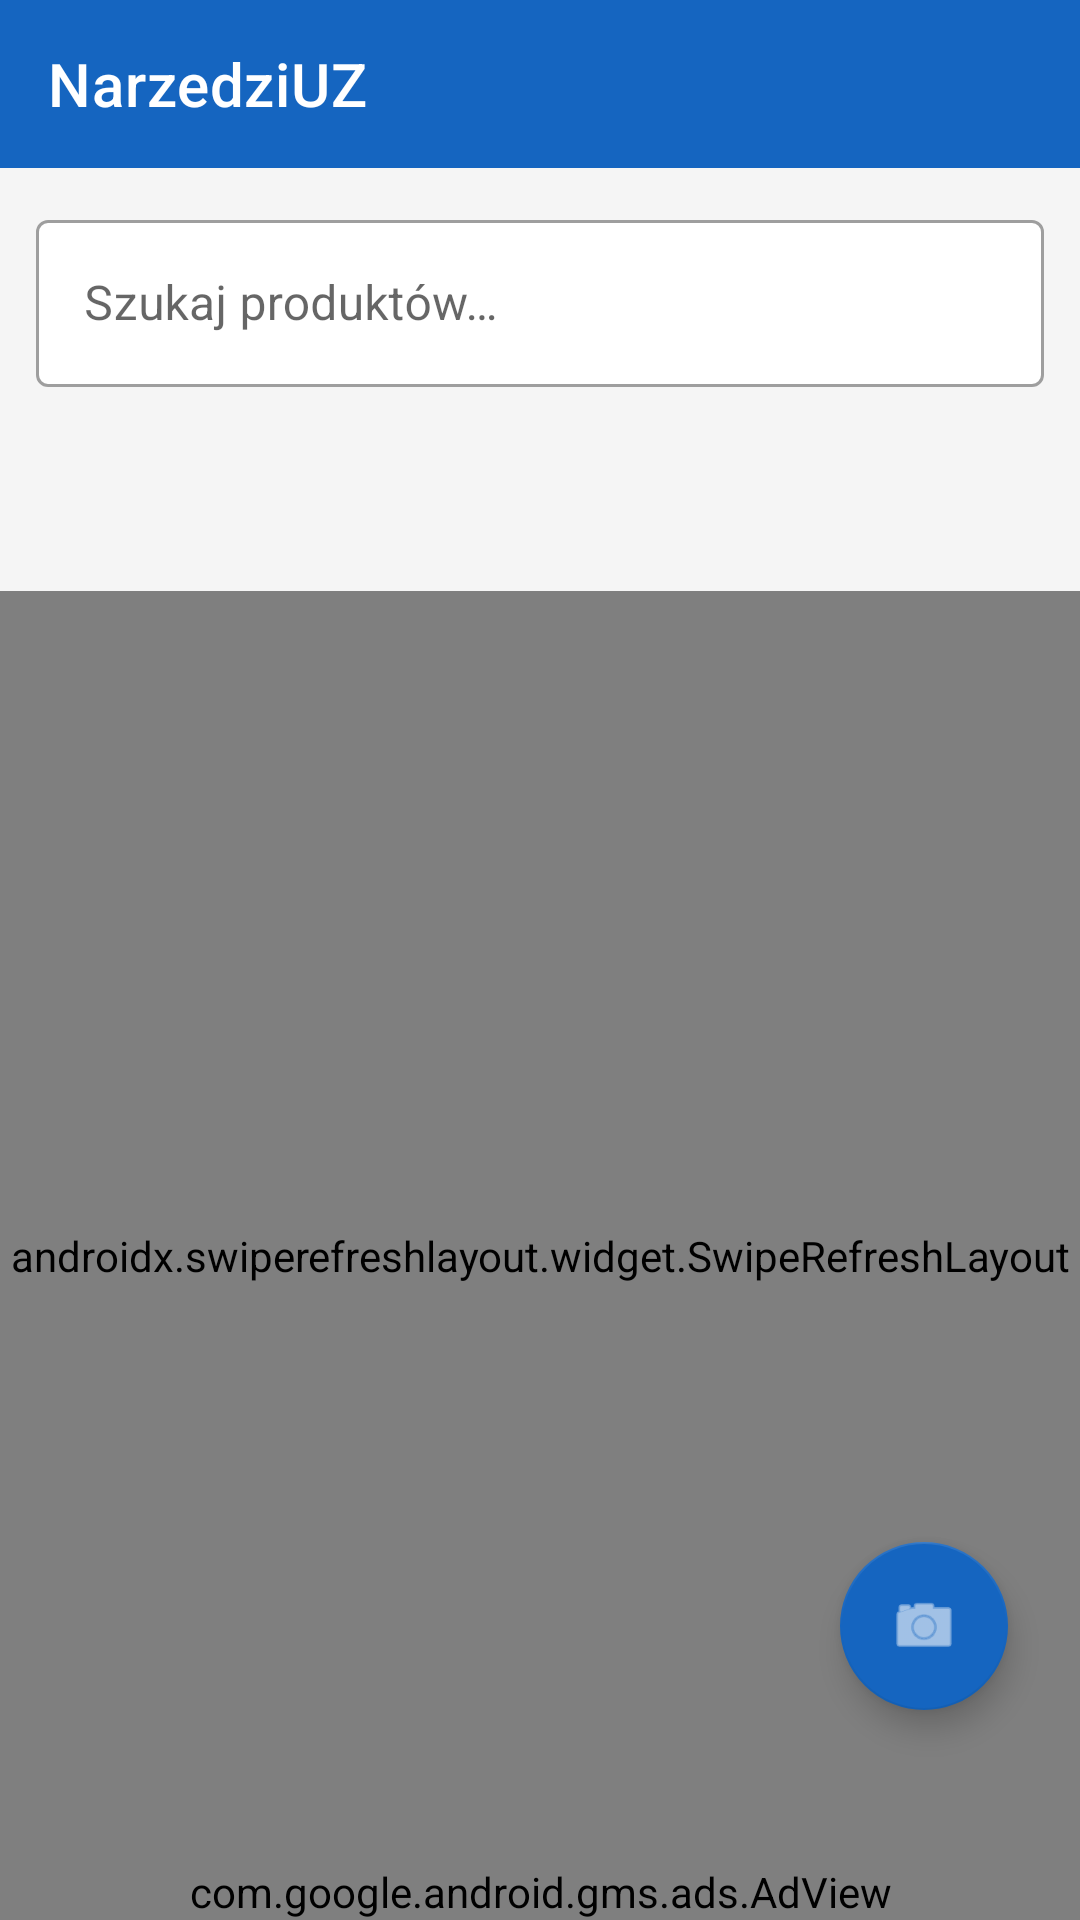

Locate icon controls on the screen. Image size 1080*1920, boxes as box=[x1, y1, x2, y2].
Skanuj kod: box=[840, 1542, 1008, 1710]
